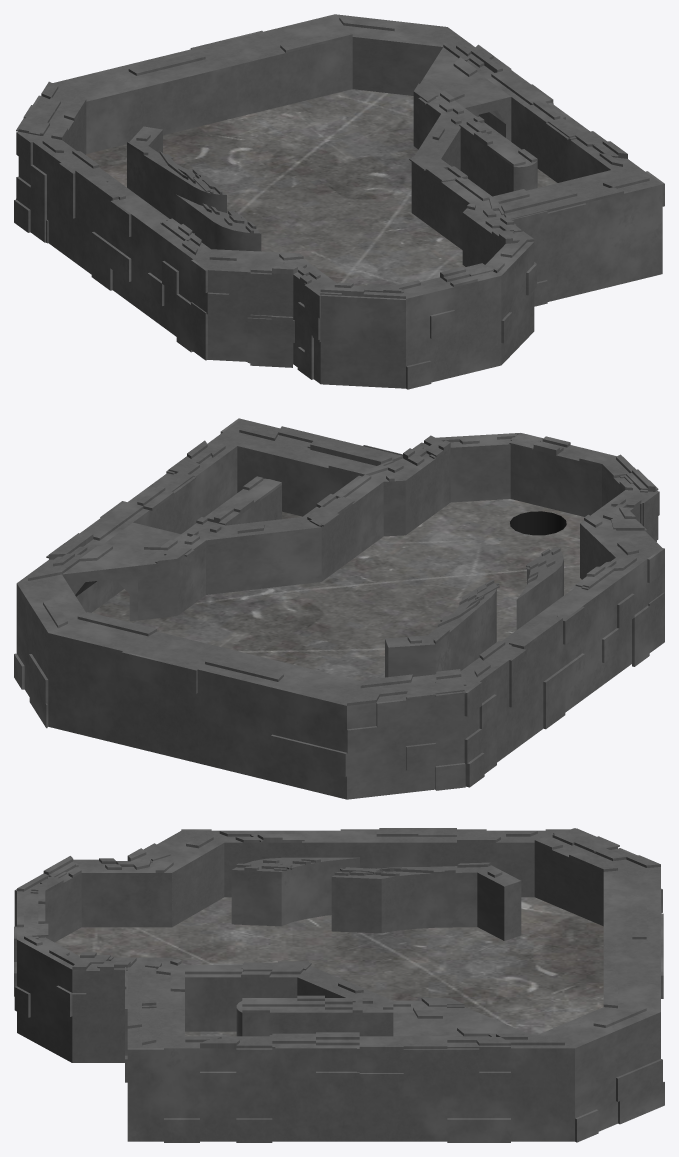
Rendered from PlayfieldChannels.fbx.
The picture shows the model from 3 angles, top to bottom: view 1: azimuth 30°, elevation 25°; view 2: azimuth 150°, elevation 25°; view 3: azimuth 270°, elevation 25°; orthographic projection. The views are drawn at different scales.
Parts seen in each view (by area): view 1: PlayfieldStructure, PlayfieldFloor, PlayfieldWalls, PlayfieldChannelA, PlayfieldTunnel, PlayfieldChannelB; view 2: PlayfieldStructure, PlayfieldFloor, PlayfieldWalls, PlayfieldChannelA, PlayfieldTunnel, PlayfieldChannelB; view 3: PlayfieldStructure, PlayfieldFloor, PlayfieldWalls, PlayfieldChannelA, PlayfieldChannelB, PlayfieldTunnel.
Boxes of the visible parts, bbox=[...] form: PlayfieldStructure: bbox=[14, 14, 664, 389]; PlayfieldFloor: bbox=[86, 89, 556, 286]; PlayfieldWalls: bbox=[62, 37, 610, 266]; PlayfieldChannelA: bbox=[127, 126, 226, 220]; PlayfieldTunnel: bbox=[424, 47, 511, 141]; PlayfieldChannelB: bbox=[175, 194, 261, 251]; PlayfieldStructure: bbox=[14, 418, 664, 799]; PlayfieldFloor: bbox=[92, 499, 584, 681]; PlayfieldWalls: bbox=[133, 444, 624, 620]; PlayfieldChannelA: bbox=[385, 579, 499, 677]; PlayfieldTunnel: bbox=[62, 522, 180, 621]; PlayfieldChannelB: bbox=[516, 547, 563, 629]; PlayfieldStructure: bbox=[14, 828, 664, 1142]; PlayfieldFloor: bbox=[55, 897, 603, 1036]; PlayfieldWalls: bbox=[45, 842, 603, 1036]; PlayfieldChannelA: bbox=[331, 862, 521, 940]; PlayfieldChannelB: bbox=[231, 857, 359, 926]; PlayfieldTunnel: bbox=[393, 1010, 527, 1036].
Size of the model in its own units: 3680 by 4548 by 780.
